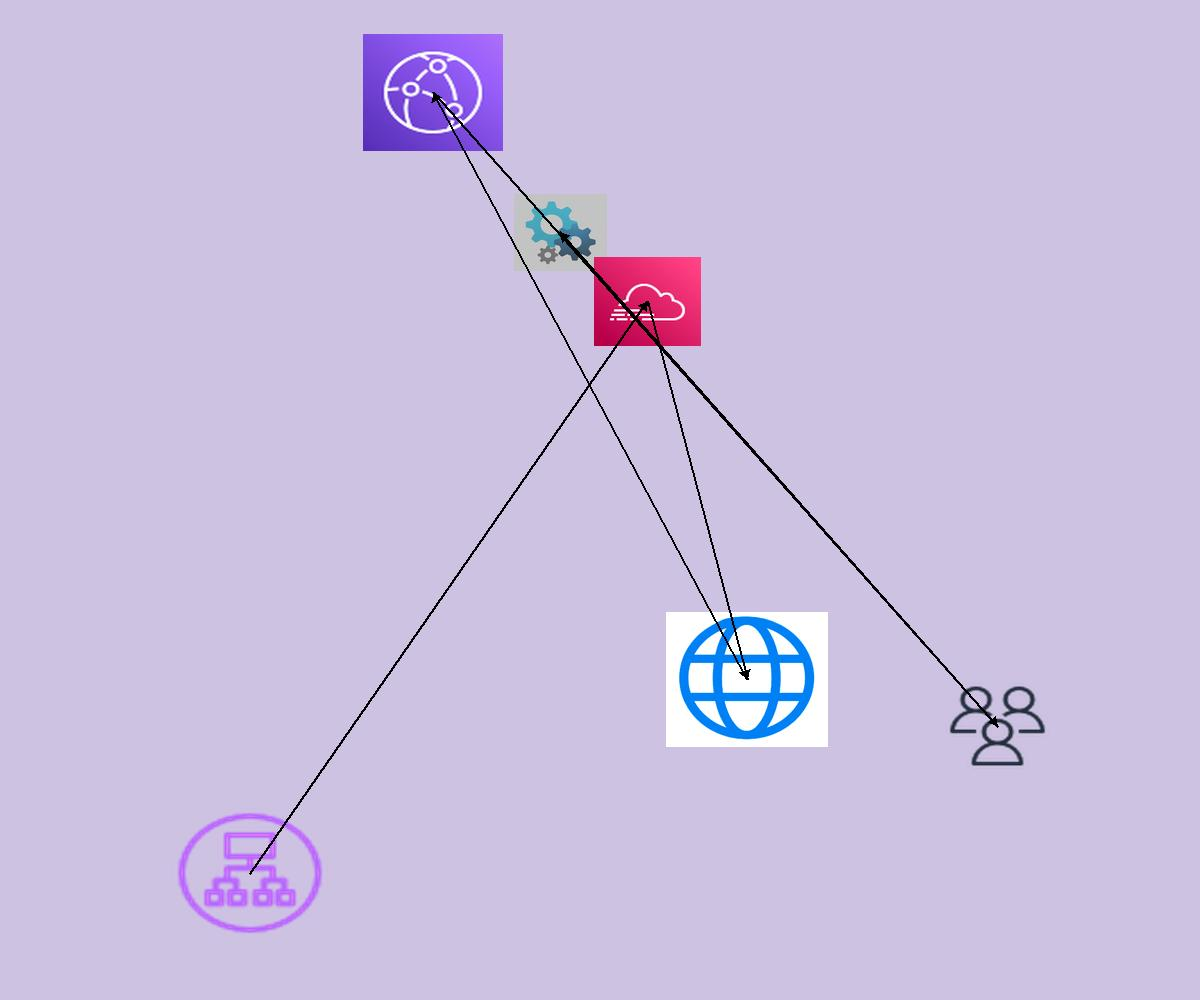AWS-CloudFront: (363, 34, 503, 151)
AWS-CloudTrail: (594, 257, 701, 346)
AWS-Res_Elastic-Load-Balancing_Application-Load-Balancer: (172, 808, 328, 938)
AWS-Res_Users: (946, 683, 1049, 769)
Azure_api: (514, 194, 607, 271)
Azure_http: (666, 612, 828, 747)
